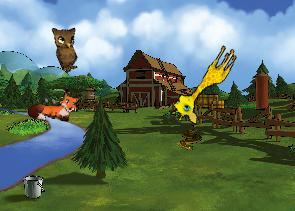fox: (27, 84, 82, 125)
giraffe: (167, 37, 240, 129)
owl: (46, 20, 90, 74)
